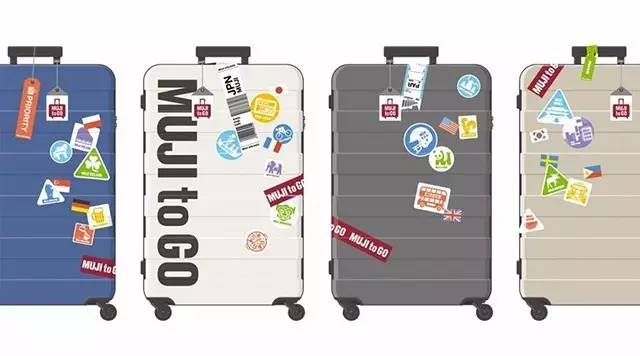suitcase: (325, 46, 495, 326), (138, 43, 308, 323)
